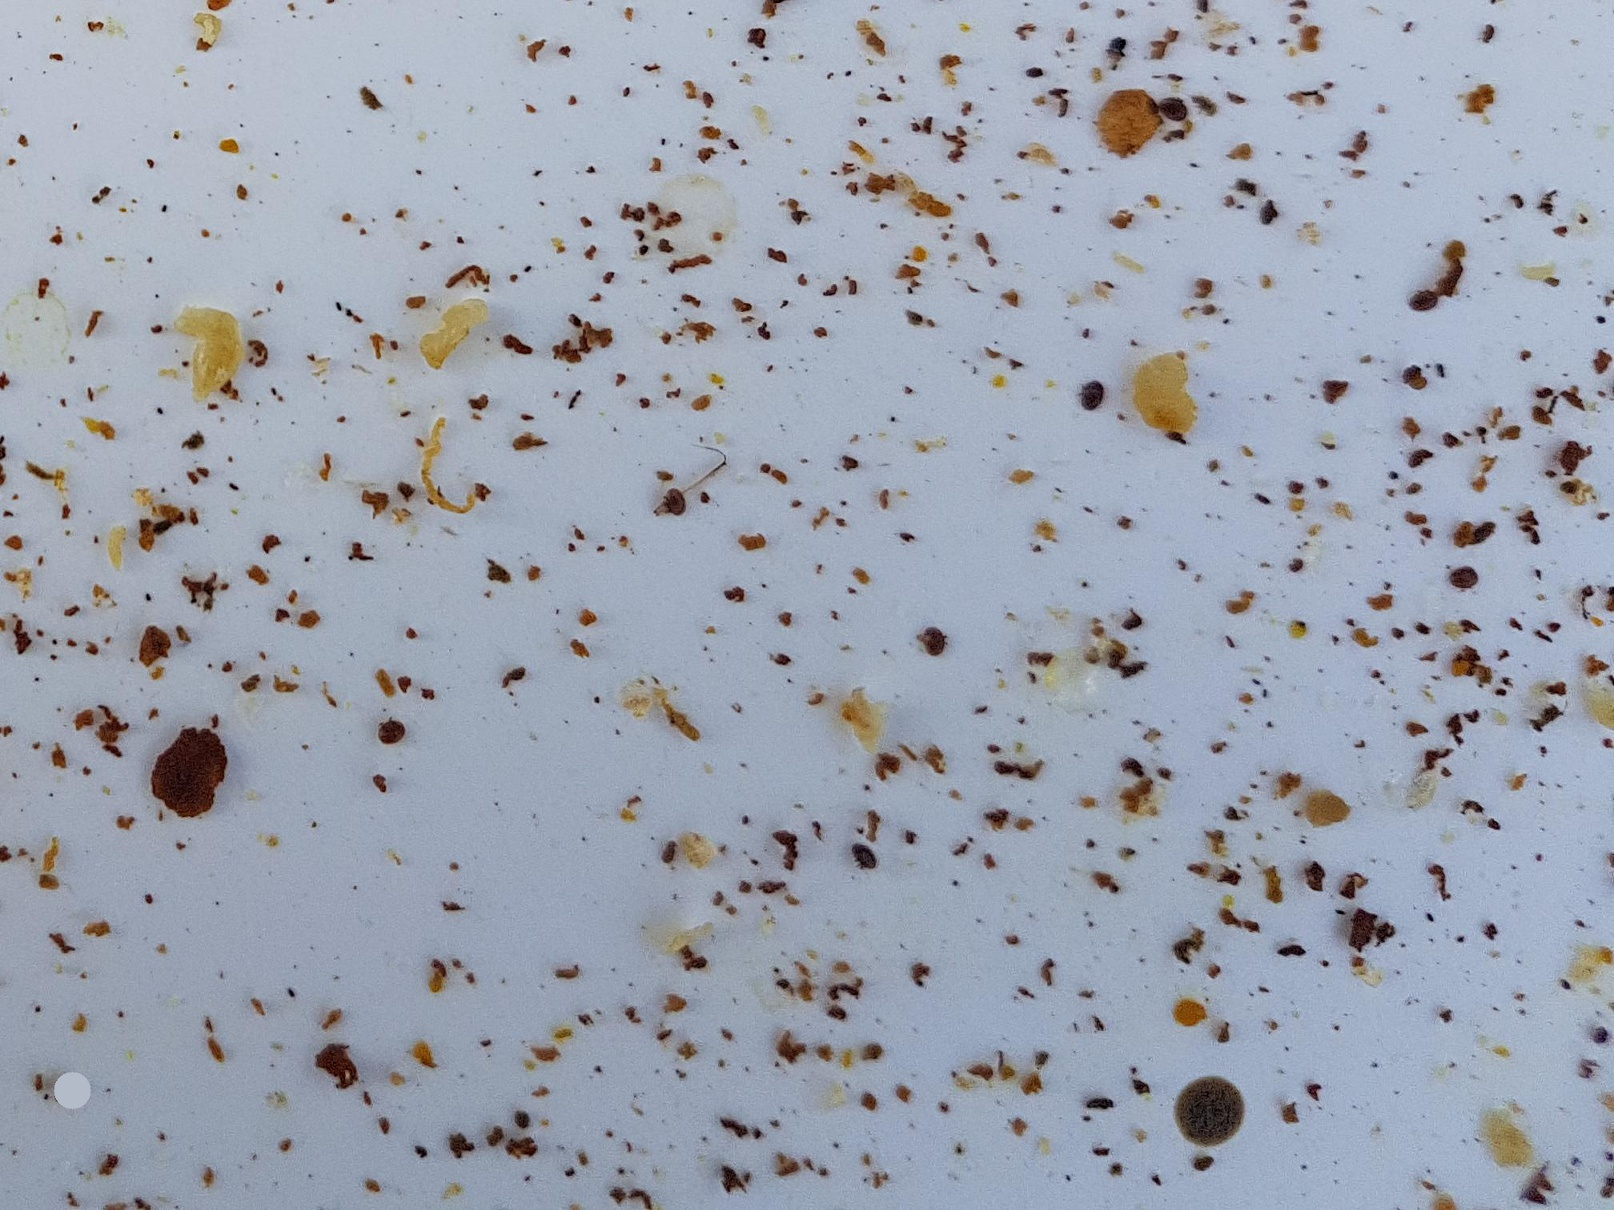Varroa: (1406, 276, 1439, 318), (374, 714, 408, 752), (1076, 377, 1109, 413), (656, 488, 689, 522), (1453, 558, 1486, 592), (918, 625, 951, 658), (850, 834, 882, 868), (1162, 98, 1193, 130)
